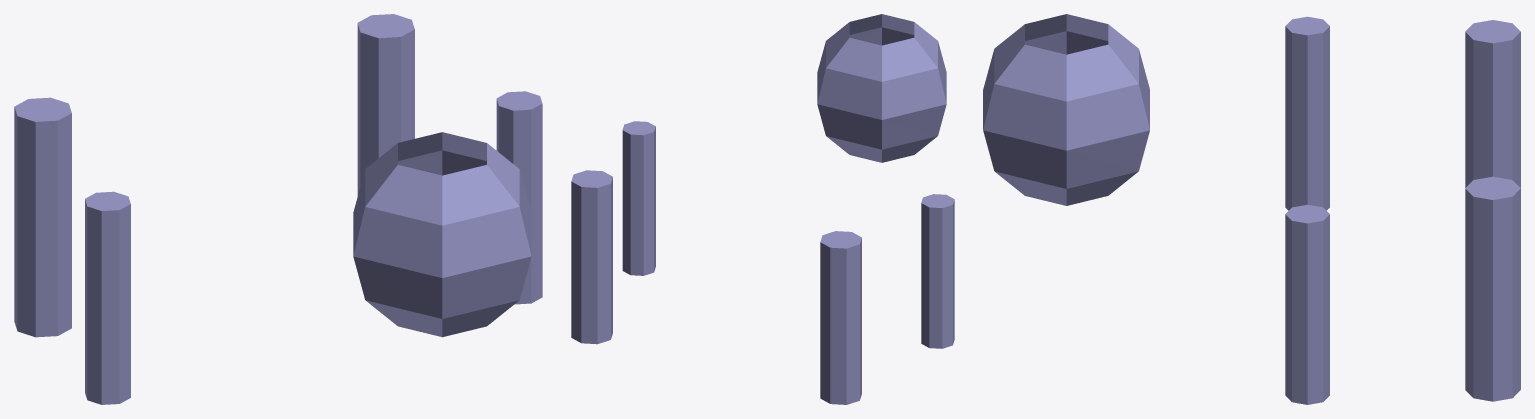
File: biped_warrior.obj
The picture shows the model from 3 angles, left to right: view 1: azimuth 30°, elevation 25°; view 2: azimuth 150°, elevation 25°; view 3: azimuth 270°, elevation 25°; orthographic projection. The views are drawn at different scales.
Bounding box in the file's own units: 2.64 × 1.65 × 2.9.
